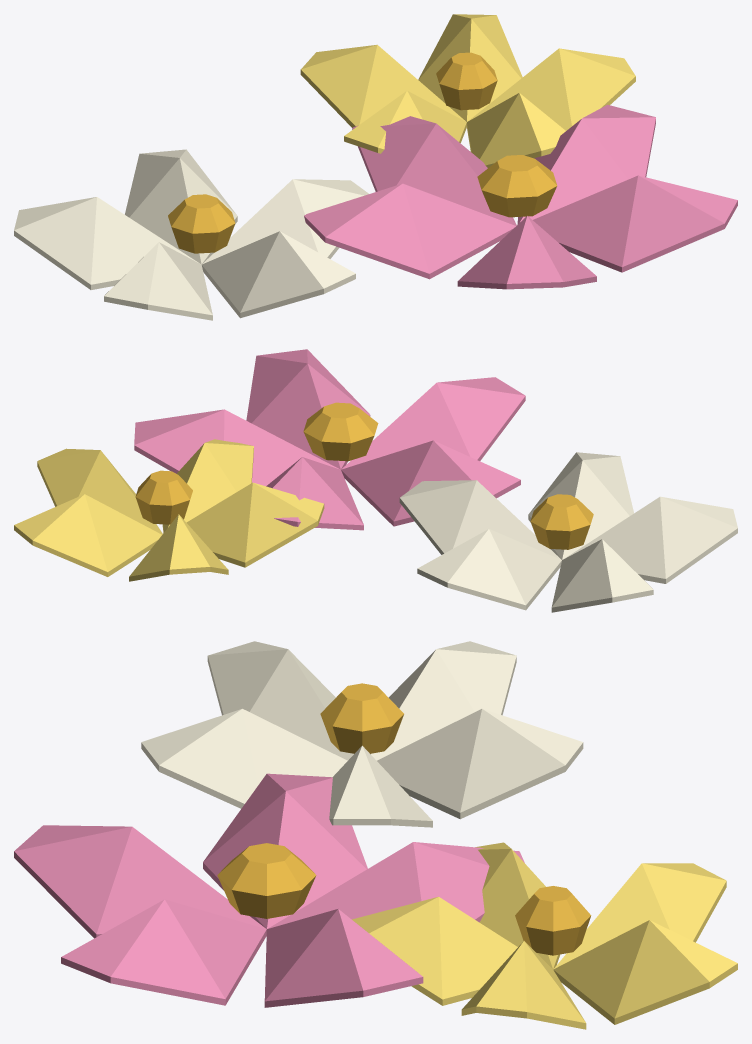
The picture shows the model from 3 angles, top to bottom: view 1: azimuth 30°, elevation 25°; view 2: azimuth 150°, elevation 25°; view 3: azimuth 270°, elevation 25°; orthographic projection. The views are drawn at different scales.
Visible parts, largest first — view 1: 三色花簇_1.001; view 2: 三色花簇_1.001; view 3: 三色花簇_1.001.
Boxes of the visible parts, box(x1,y1,x2,y2) form: 三色花簇_1.001: box(14, 14, 737, 320); 三色花簇_1.001: box(14, 349, 737, 612); 三色花簇_1.001: box(14, 641, 737, 1029).
Size of the model in its own units: 0.3678 by 0.038 by 0.3034.
